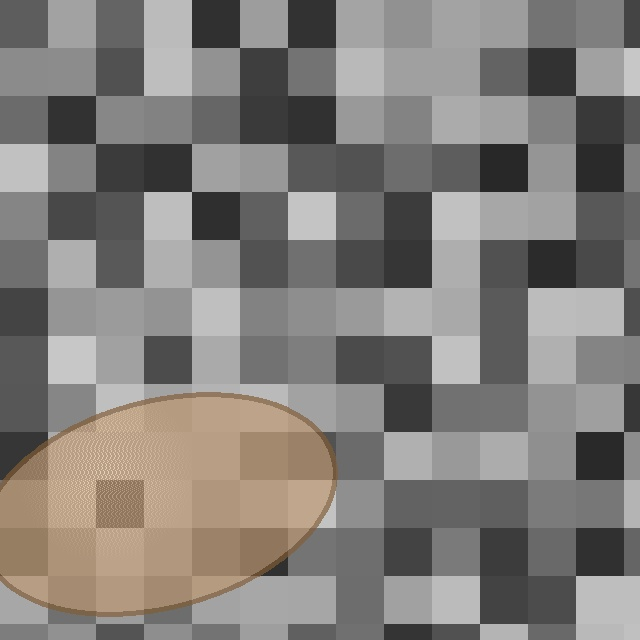lens: (0, 395, 334, 613)
